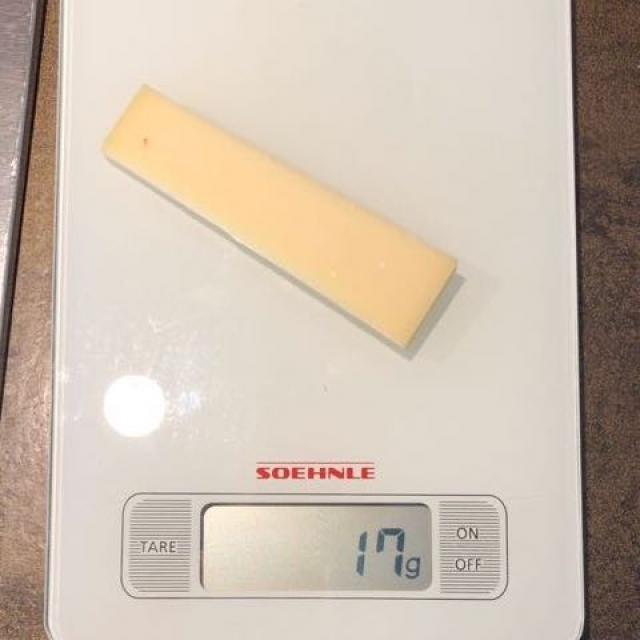gruyere: (125, 90, 453, 351)
